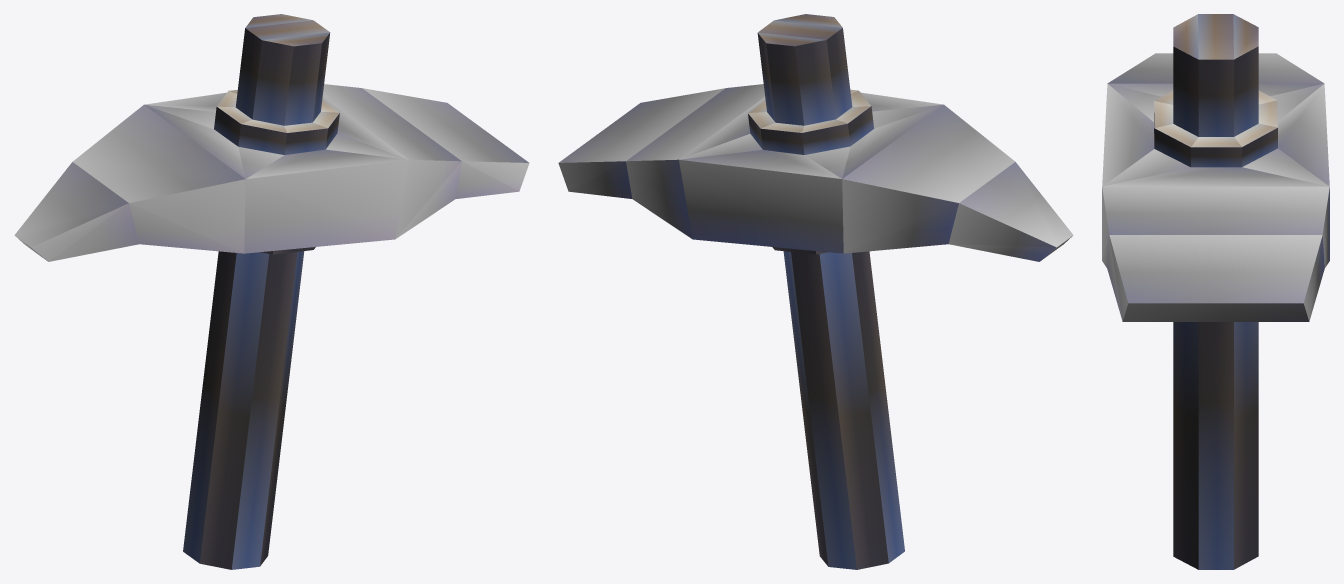
File: pickaxe03.fbx
3 views of the same model, side by side, from view 1: azimuth 30°, elevation 25°; view 2: azimuth 150°, elevation 25°; view 3: azimuth 270°, elevation 25° (orthographic). The views are drawn at different scales.
Parts seen in each view (by area): view 1: pickaxe03; view 2: pickaxe03; view 3: pickaxe03.
Boxes of the visible parts, left/top/right/bottom form: pickaxe03: left=14, top=14, right=529, bottom=569; pickaxe03: left=558, top=14, right=1073, bottom=569; pickaxe03: left=1102, top=14, right=1329, bottom=569.
Bounding box in the file's own units: 105 × 111 × 41.59.
